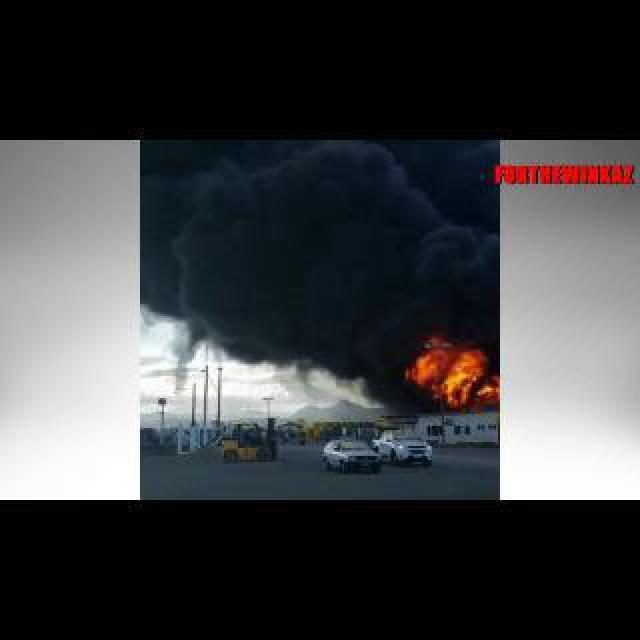zfire: (404, 330, 498, 410)
